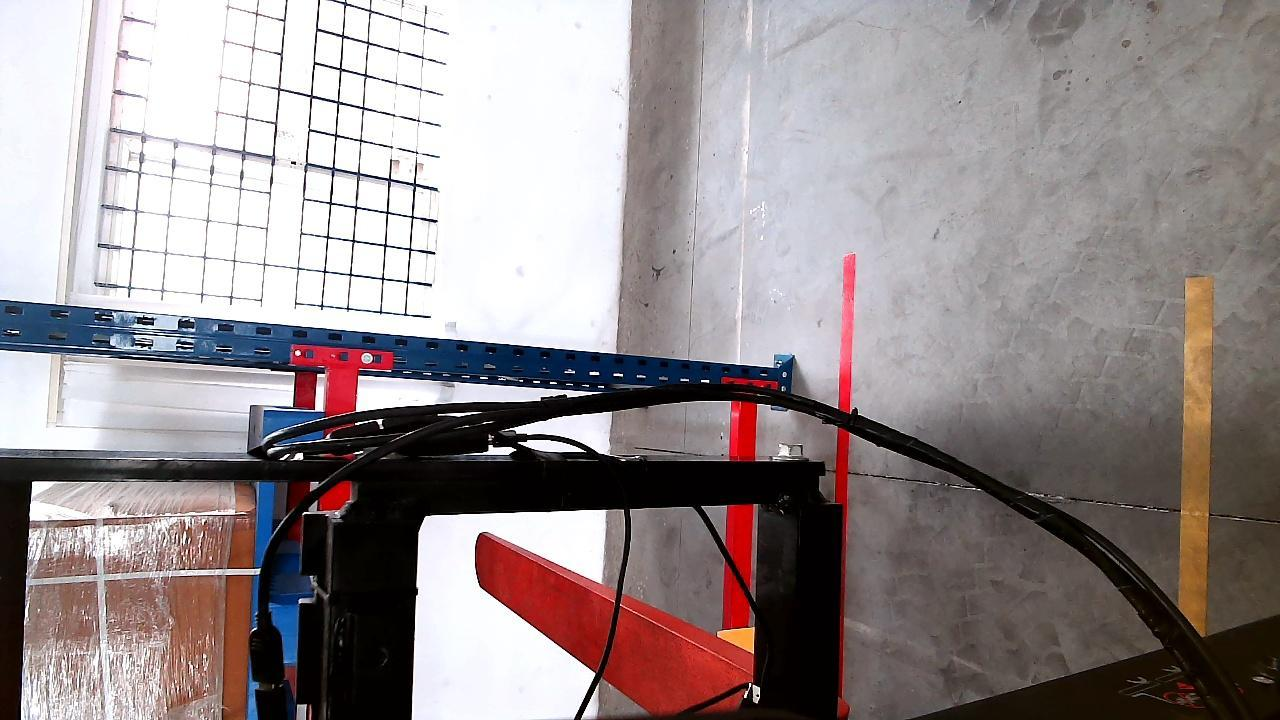red_line: (828, 251, 859, 720)
yellow_line: (1180, 266, 1215, 635)
